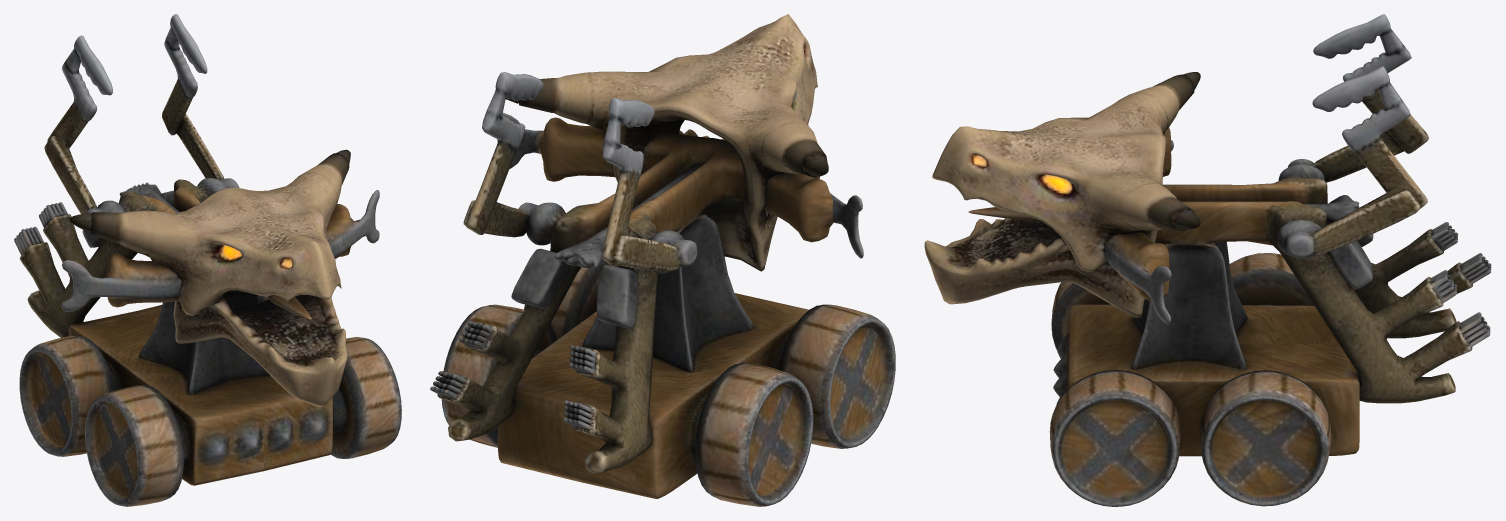
Rendered from MZ4250 - Oaken Bolter.glb.
The picture shows the model from 3 angles, left to right: view 1: azimuth 30°, elevation 25°; view 2: azimuth 150°, elevation 25°; view 3: azimuth 270°, elevation 25°; orthographic projection. The views are drawn at different scales.
Parts seen in each view (by area): view 1: Head Base Sphere.001; view 2: Head Base Sphere.001; view 3: Head Base Sphere.001.
Boxes of the visible parts, left/top/right/bottom form: Head Base Sphere.001: left=14, top=14, right=401, bottom=506; Head Base Sphere.001: left=430, top=14, right=895, bottom=506; Head Base Sphere.001: left=924, top=14, right=1491, bottom=506.
Size of the model in its own units: 0.5534 by 0.6081 by 0.7739.
1 material, 1 textured.
